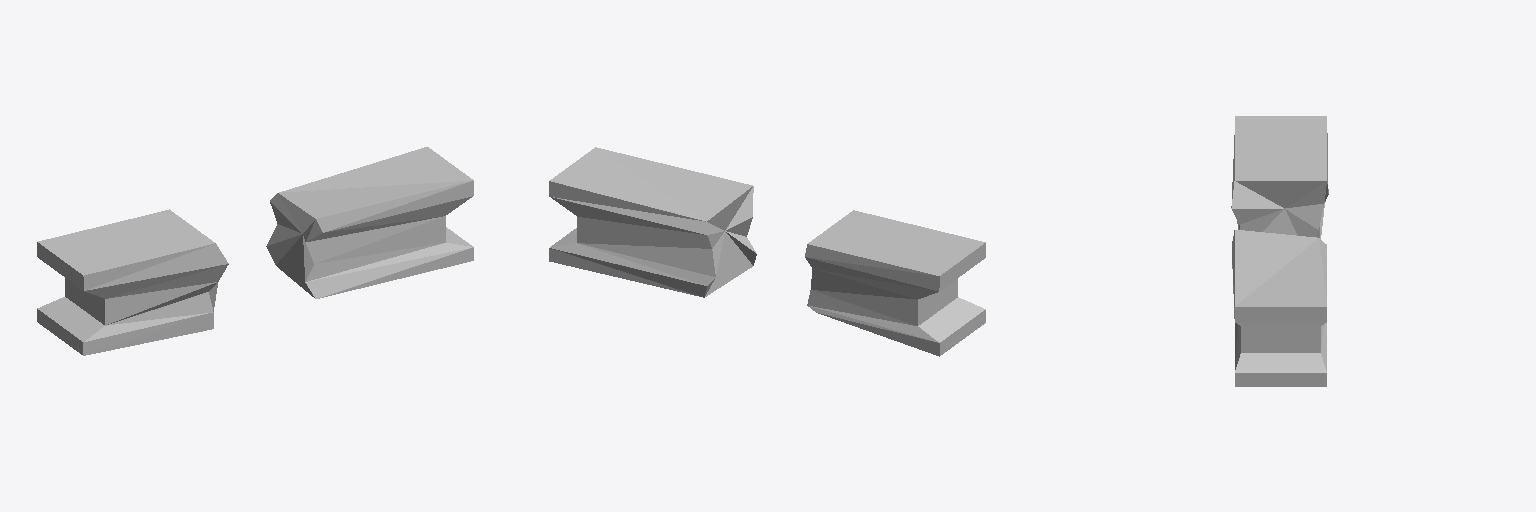
Rendered from blocCasse.obj.
3 renders of one model, left to right at view 1: azimuth 30°, elevation 25°; view 2: azimuth 150°, elevation 25°; view 3: azimuth 270°, elevation 25°, orthographic.
Size of the model in its own units: 1.68 by 0.3672 by 0.3626.